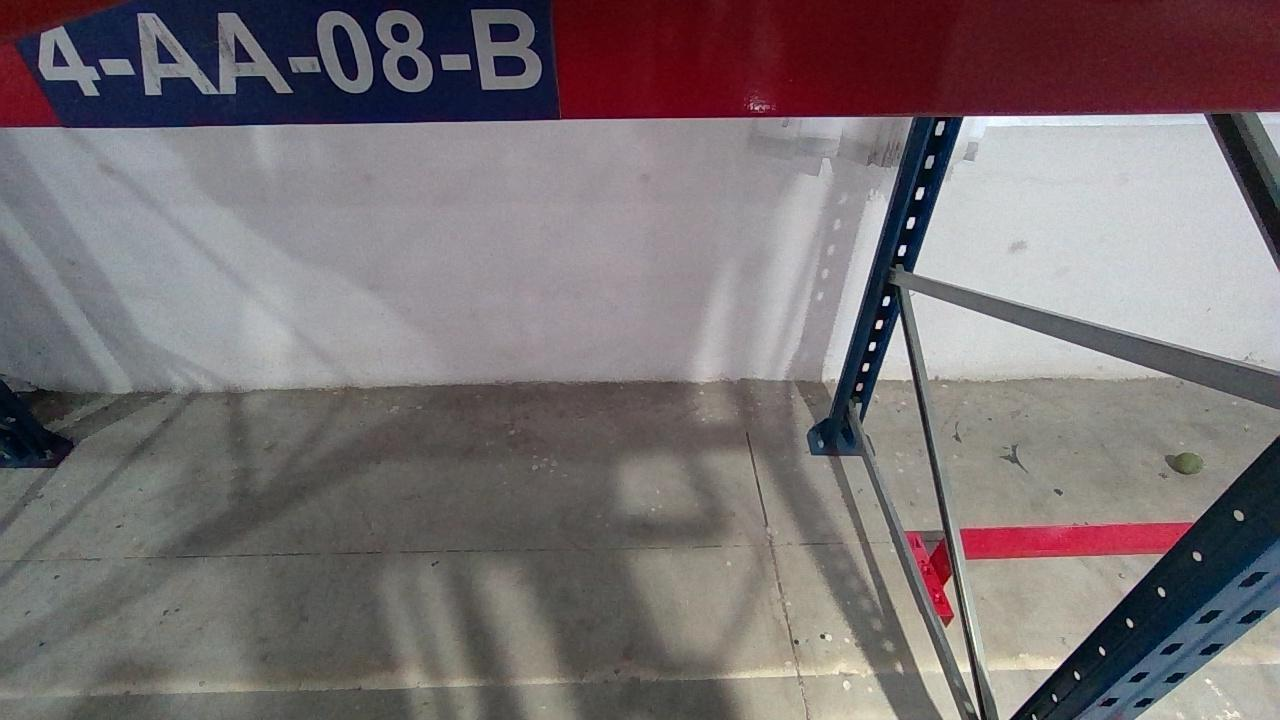h_rack: (0, 0, 1277, 129)
